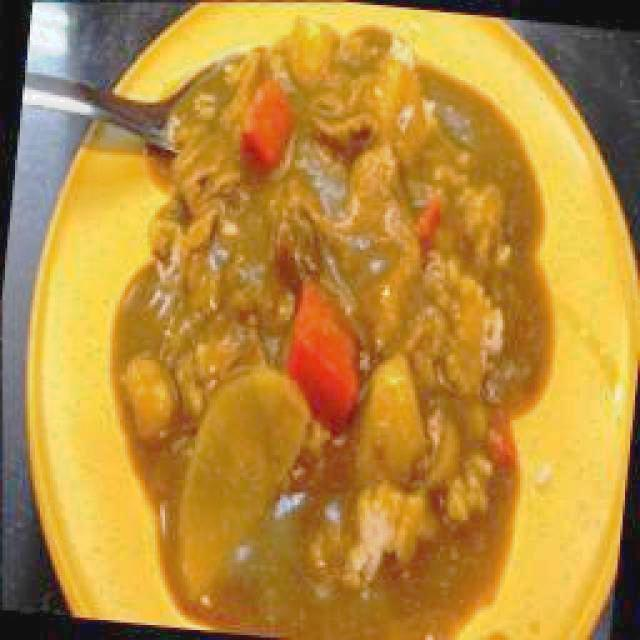curry: (111, 16, 552, 640)
